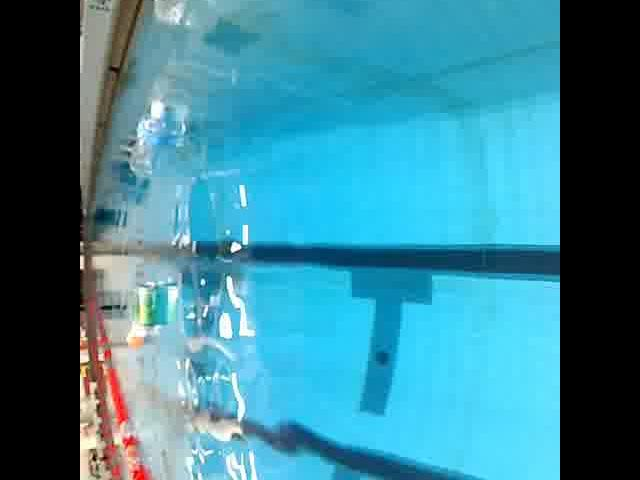Bottle: (128, 92, 172, 182), (149, 0, 191, 30), (121, 316, 149, 354)
Can: (134, 276, 160, 332)
